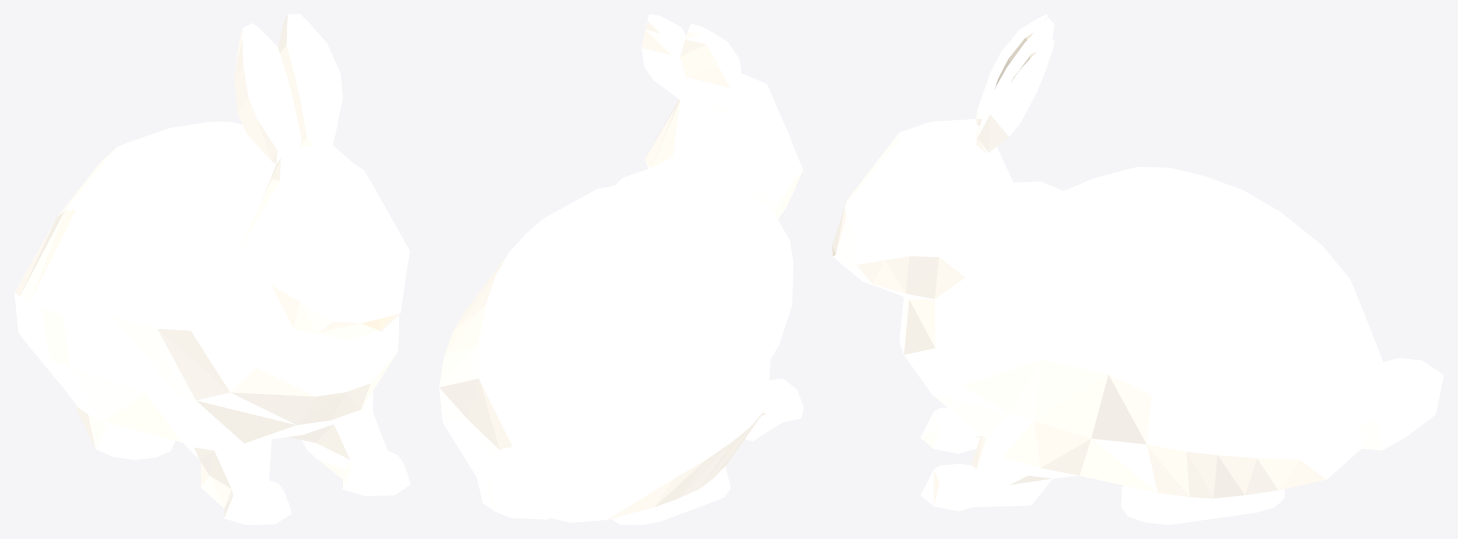
Rendered from hare.gltf.
3 renders of one model, left to right at view 1: azimuth 30°, elevation 25°; view 2: azimuth 150°, elevation 25°; view 3: azimuth 270°, elevation 25°, orthographic. The views are drawn at different scales.
Parts seen in each view (by area): view 1: Hare-brownish_white, Hare-brownish_gray; view 2: Hare-brownish_white; view 3: Hare-brownish_white.
Part boxes in pixels (x1,y1,x2,y2): Hare-brownish_white: (14,14,410,524); Hare-brownish_gray: (245,26,393,330); Hare-brownish_white: (439,14,803,524); Hare-brownish_white: (832,14,1443,524).
Size of the model in its own units: 317 by 430 by 538.
